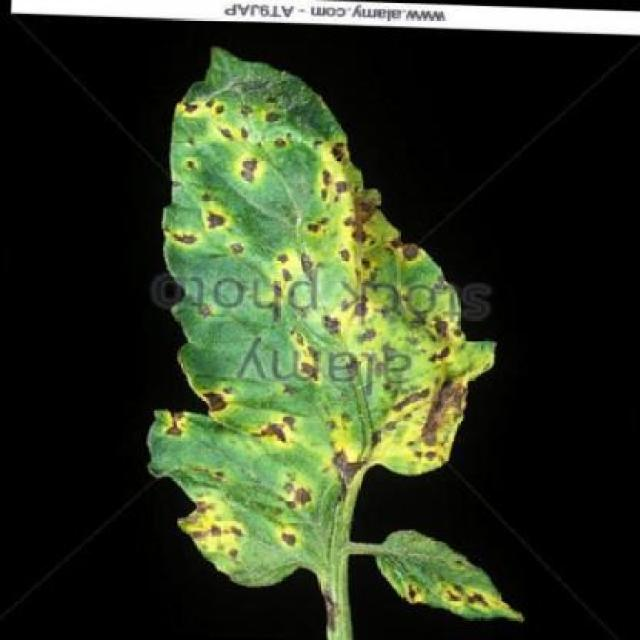Septoria leaf spot: (134, 46, 500, 523)
